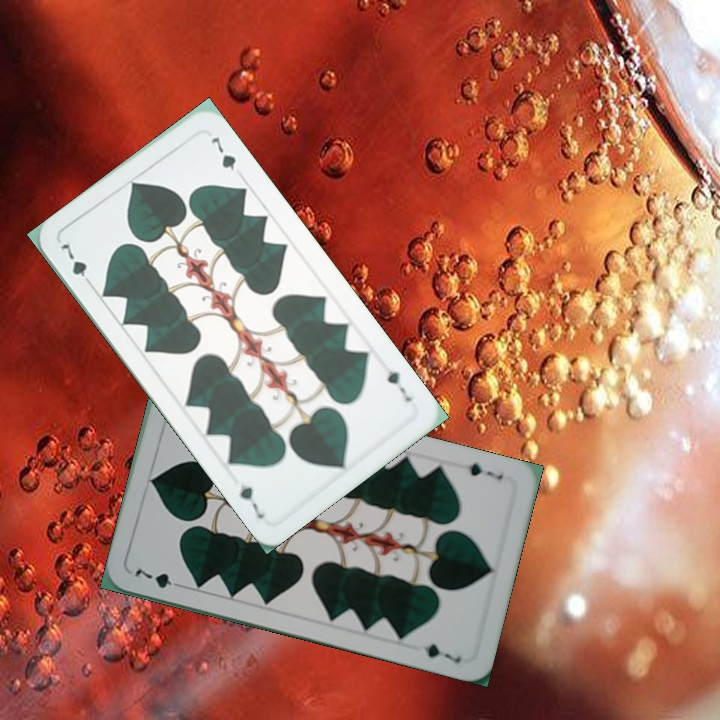G7: (53, 239, 96, 290), (130, 564, 187, 591), (383, 366, 415, 405), (464, 458, 506, 483)
